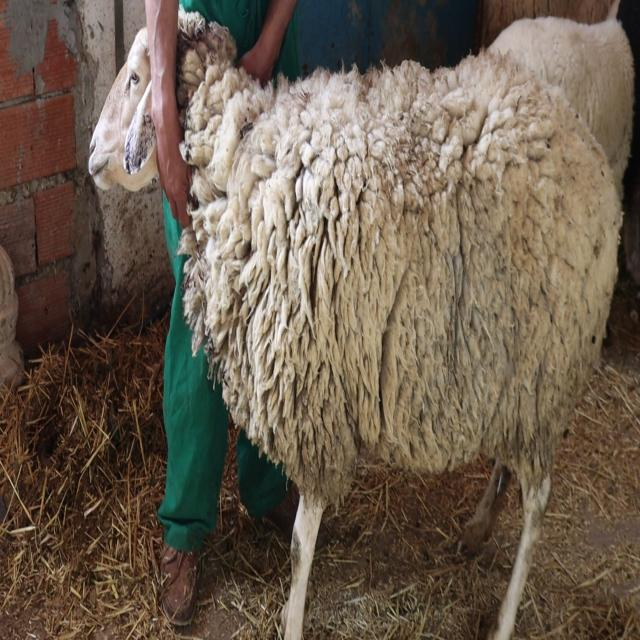Score_4: (177, 5, 620, 639)
